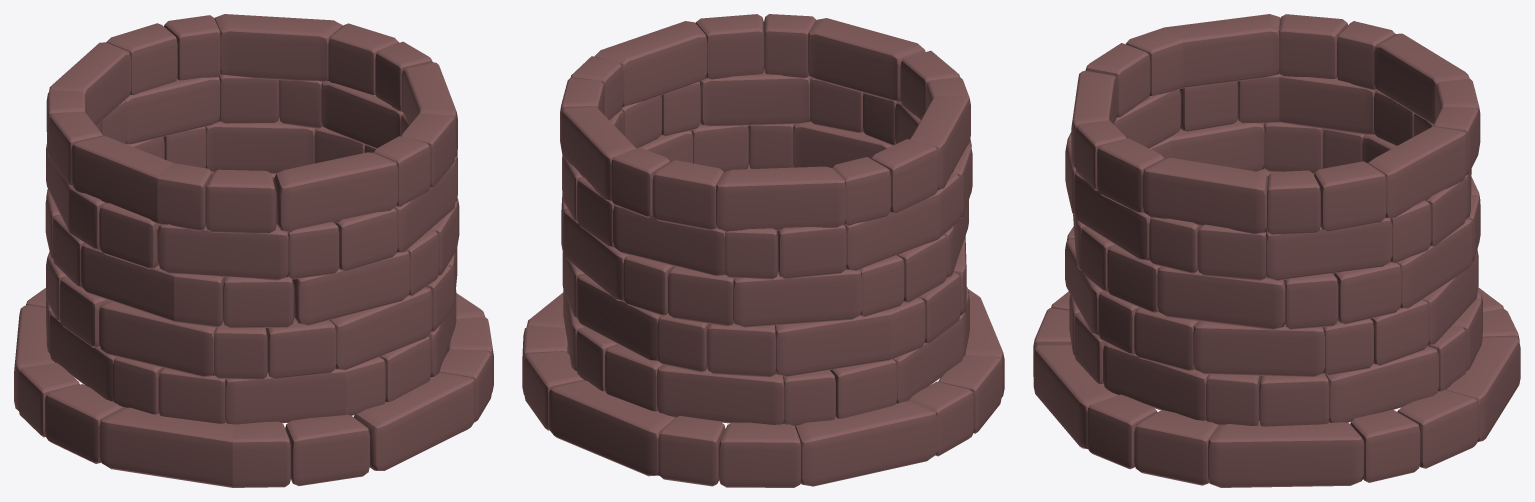
File: poco002.glb
The picture shows the model from 3 angles, left to right: view 1: azimuth 30°, elevation 25°; view 2: azimuth 150°, elevation 25°; view 3: azimuth 270°, elevation 25°; orthographic projection.
Parts seen in each view (by area): view 1: pasted__pasted__pasted__pasted__pasted__group4_pasted__grou, group4_pasted__group_pasted__pasted__pCube1, pasted__pasted__pasted__pasted__group4_pasted__group_pasted, pasted__pasted__pasted__group4_pasted__group_pasted__pasted, pasted__group4_pasted__group_pasted__pasted__pCube1_lambert, pasted__group4_pasted__group_pasted__pasted__pCube1_lambert7; view 2: pasted__pasted__pasted__pasted__pasted__group4_pasted__grou, group4_pasted__group_pasted__pasted__pCube1, pasted__pasted__pasted__pasted__group4_pasted__group_pasted, pasted__pasted__pasted__group4_pasted__group_pasted__pasted, pasted__group4_pasted__group_pasted__pasted__pCube1_lambert, pasted__group4_pasted__group_pasted__pasted__pCube1_lambert7; view 3: pasted__pasted__pasted__pasted__pasted__group4_pasted__grou, group4_pasted__group_pasted__pasted__pCube1, pasted__pasted__pasted__pasted__group4_pasted__group_pasted, pasted__pasted__pasted__group4_pasted__group_pasted__pasted, pasted__group4_pasted__group_pasted__pasted__pCube1_lambert7, pasted__group4_pasted__group_pasted__pasted__pCube1_lambert.
Boxes of the visible parts, bbox=[...] form: pasted__pasted__pasted__pasted__pasted__group4_pasted__grou: bbox=[46, 14, 457, 233]; group4_pasted__group_pasted__pasted__pCube1: bbox=[14, 288, 493, 487]; pasted__pasted__pasted__pasted__group4_pasted__group_pasted: bbox=[46, 74, 457, 280]; pasted__pasted__pasted__group4_pasted__group_pasted__pasted: bbox=[45, 117, 459, 328]; pasted__group4_pasted__group_pasted__pasted__pCube1_lambert: bbox=[46, 172, 457, 379]; pasted__group4_pasted__group_pasted__pasted__pCube1_lambert7: bbox=[46, 290, 456, 424]; pasted__pasted__pasted__pasted__pasted__group4_pasted__grou: bbox=[560, 14, 970, 231]; group4_pasted__group_pasted__pasted__pCube1: bbox=[522, 289, 1004, 487]; pasted__pasted__pasted__pasted__group4_pasted__group_pasted: bbox=[562, 69, 972, 279]; pasted__pasted__pasted__group4_pasted__group_pasted__pasted: bbox=[561, 121, 968, 327]; pasted__group4_pasted__group_pasted__pasted__pCube1_lambert: bbox=[562, 164, 966, 377]; pasted__group4_pasted__group_pasted__pasted__pCube1_lambert7: bbox=[563, 286, 969, 426]; pasted__pasted__pasted__pasted__pasted__group4_pasted__grou: bbox=[1071, 14, 1480, 234]; group4_pasted__group_pasted__pasted__pCube1: bbox=[1033, 287, 1520, 487]; pasted__pasted__pasted__pasted__group4_pasted__group_pasted: bbox=[1065, 73, 1471, 280]; pasted__pasted__pasted__group4_pasted__group_pasted__pasted: bbox=[1073, 118, 1480, 329]; pasted__group4_pasted__group_pasted__pasted__pCube1_lambert7: bbox=[1069, 290, 1482, 426]; pasted__group4_pasted__group_pasted__pasted__pCube1_lambert: bbox=[1065, 168, 1478, 376].
Size of the model in its own units: 0.0746 by 0.0496 by 0.0756.
